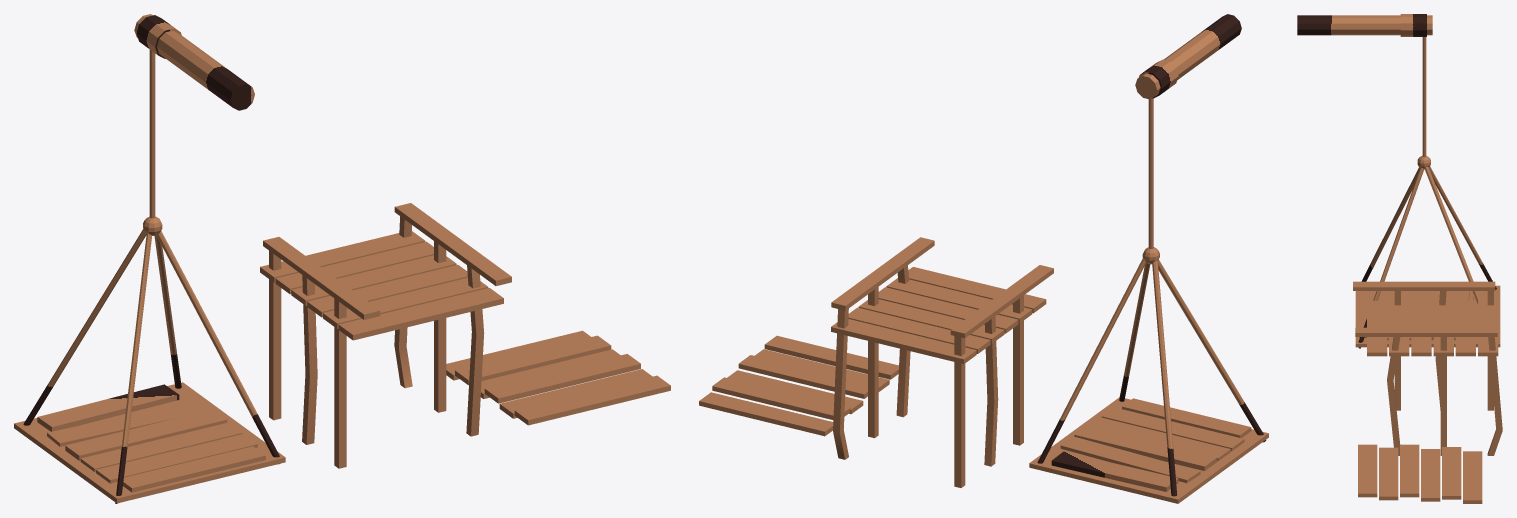
Rendered from plateforme_set_marron_01.fbx.
3 views of the same model, side by side, from view 1: azimuth 30°, elevation 25°; view 2: azimuth 150°, elevation 25°; view 3: azimuth 270°, elevation 25° (orthographic). The views are drawn at different scales.
Parts seen in each view (by area): view 1: polySurface83, polySurface88, plateforme_06; view 2: polySurface83, polySurface88, plateforme_06; view 3: polySurface88, polySurface83, plateforme_06.
Part boxes in pixels (box(x1,y1,x2,y2)): polySurface83: box(14, 14, 285, 503); polySurface88: box(260, 203, 511, 468); plateforme_06: box(446, 330, 670, 425); polySurface83: box(1029, 14, 1268, 503); polySurface88: box(831, 237, 1053, 487); plateforme_06: box(699, 335, 898, 436); polySurface88: box(1353, 281, 1502, 455); polySurface83: box(1297, 14, 1500, 348); plateforme_06: box(1358, 444, 1482, 503).
Bounding box in the file's own units: 18.91 × 15.49 × 8.59.
1 material, 1 textured.
